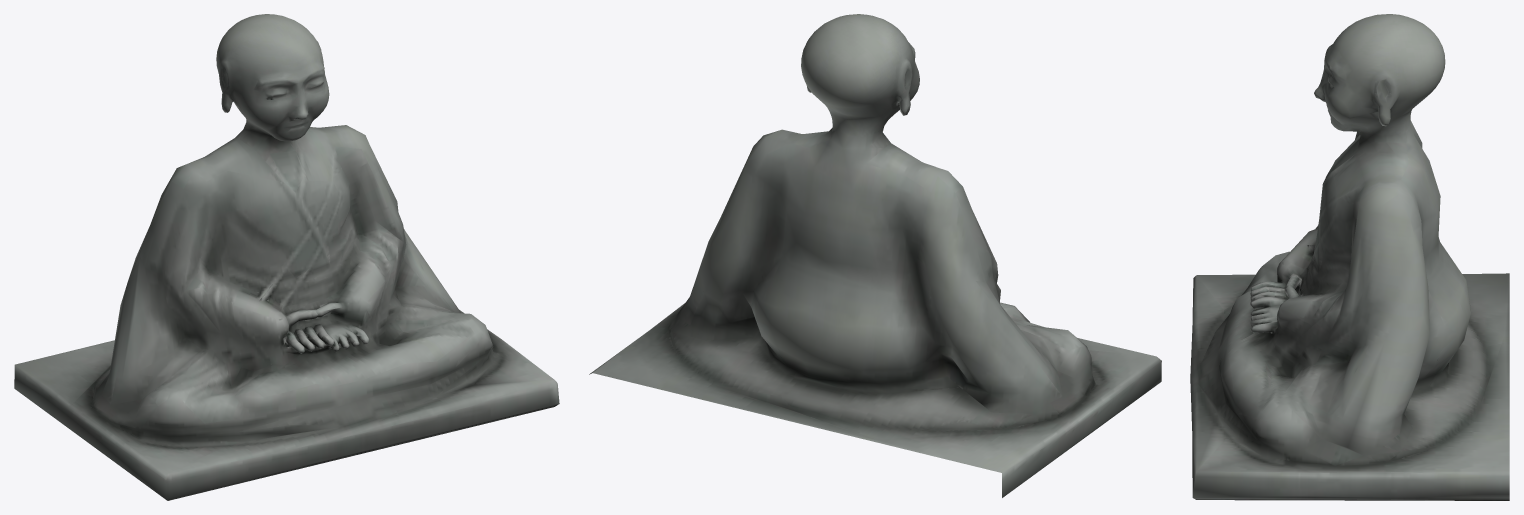
Rendered from arhat_tinh.glb.
3 renders of one model, left to right at view 1: azimuth 30°, elevation 25°; view 2: azimuth 150°, elevation 25°; view 3: azimuth 270°, elevation 25°, orthographic. The views are drawn at different scales.
Visible parts, largest first — view 1: arhat_tinh; view 2: arhat_tinh; view 3: arhat_tinh.
Part boxes in pixels (x1=…): arhat_tinh: x1=14, y1=14, x2=559, y2=500; arhat_tinh: x1=589, y1=14, x2=1161, y2=497; arhat_tinh: x1=1190, y1=14, x2=1509, y2=500.
Bounding box in the file's own units: 1.21 × 1.07 × 0.8094.
Materials: 1 (1 with a texture image).
